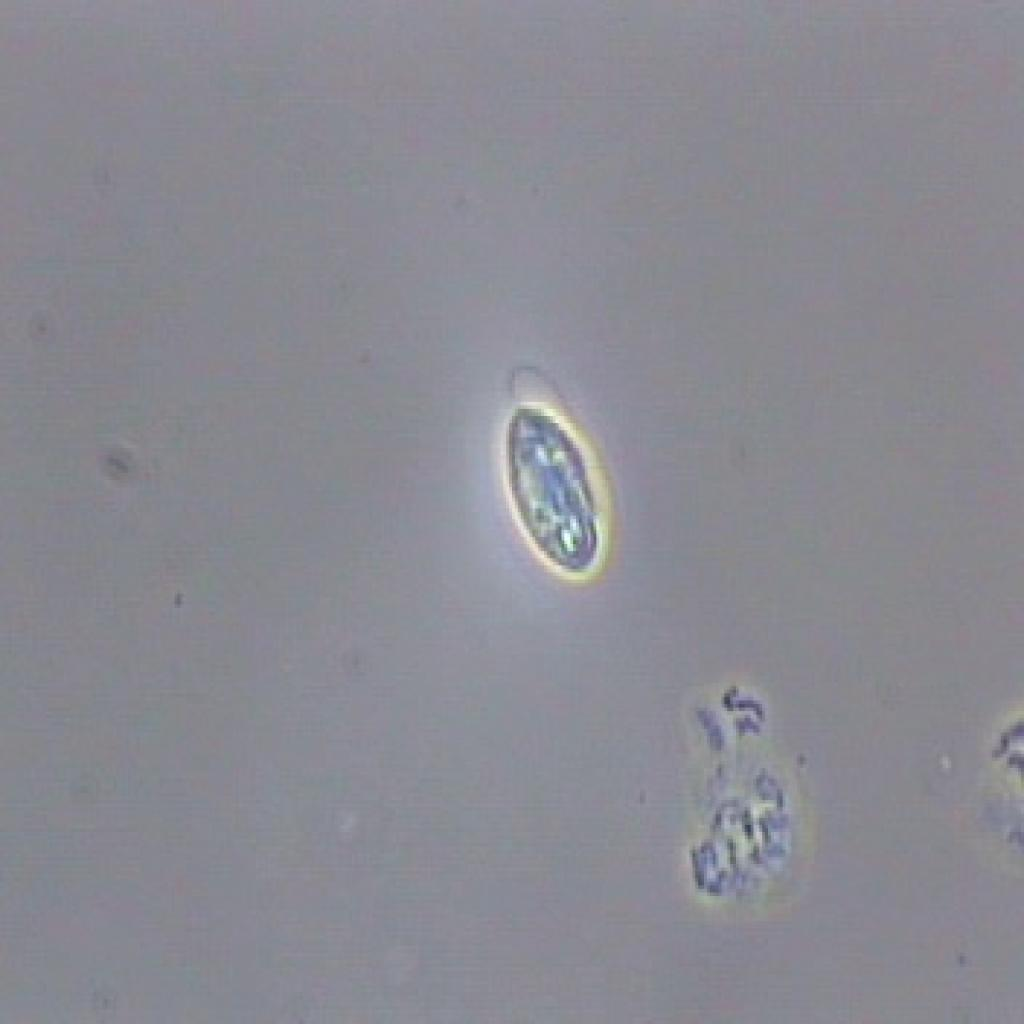Flagellates: (478, 366, 638, 594)
